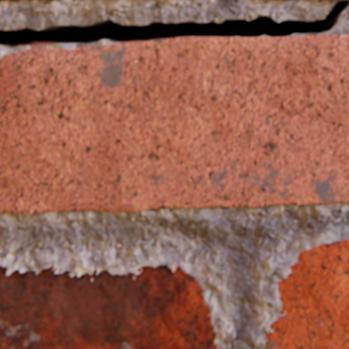brick: (0, 34, 348, 213), (0, 264, 216, 348), (266, 238, 348, 348)
crack: (0, 0, 348, 47)
